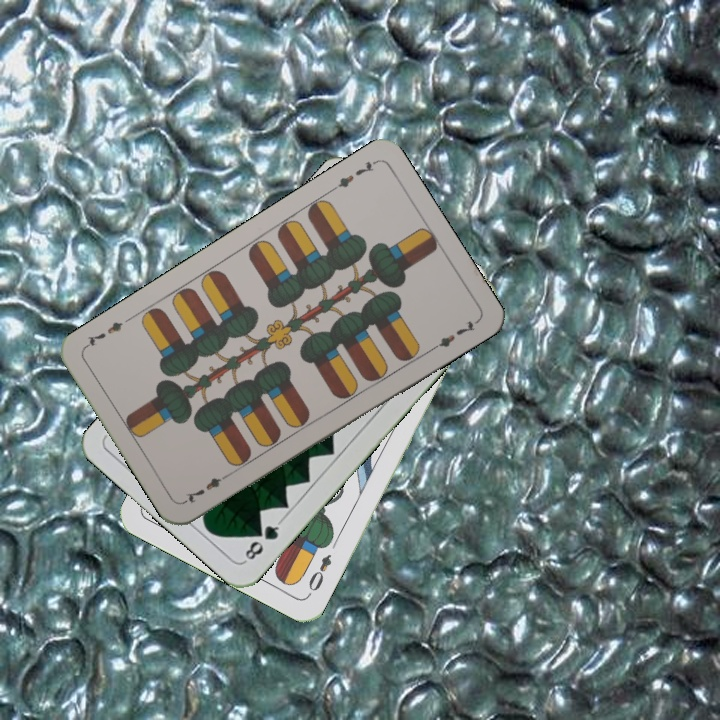E7: (326, 157, 379, 195), (180, 469, 233, 506)
EO: (304, 550, 334, 594)
G8: (240, 516, 284, 565)
